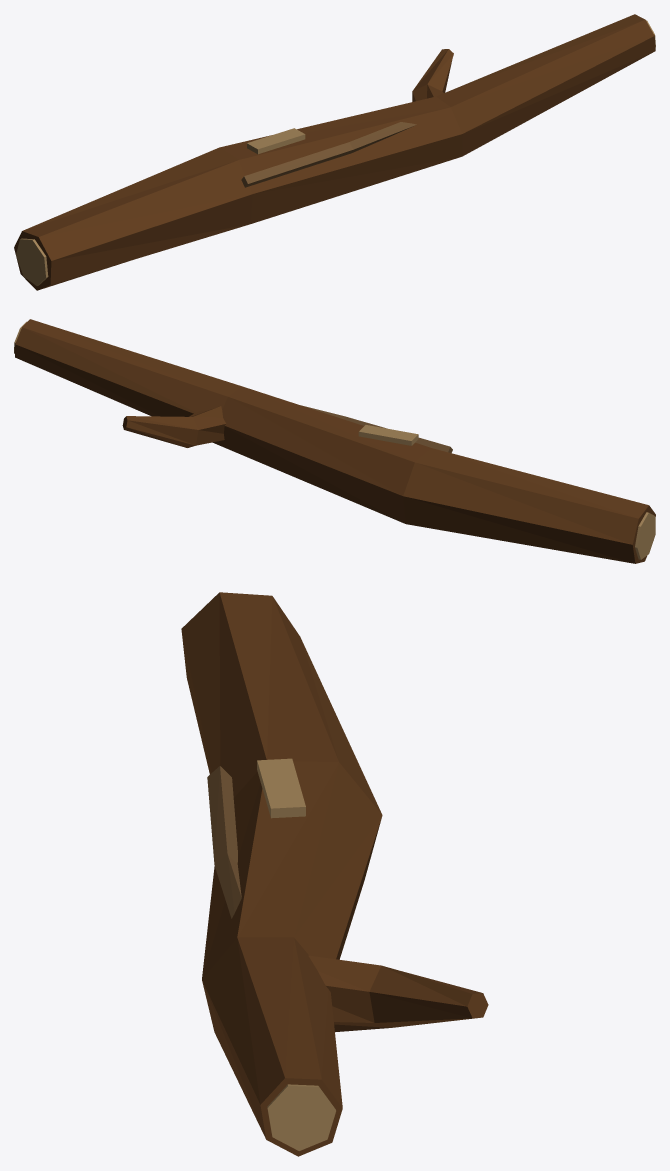
The model's file is item_stick_long.glb.
3 renders of one model, top to bottom at view 1: azimuth 30°, elevation 25°; view 2: azimuth 150°, elevation 25°; view 3: azimuth 270°, elevation 25°, orthographic. The views are drawn at different scales.
Parts seen in each view (by area): view 1: item_stick_long; view 2: item_stick_long; view 3: item_stick_long.
Boxes of the visible parts, <box> form: item_stick_long: <box>14,14,655,290</box>; item_stick_long: <box>14,319,655,563</box>; item_stick_long: <box>181,592,488,1156</box>.
Bounding box in the file's own units: 0.8029 × 0.1339 × 0.1736.
